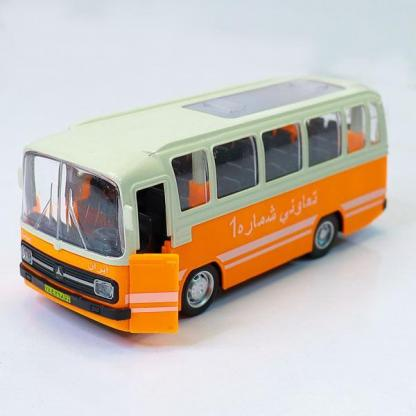Bus: (0, 73, 390, 341)
